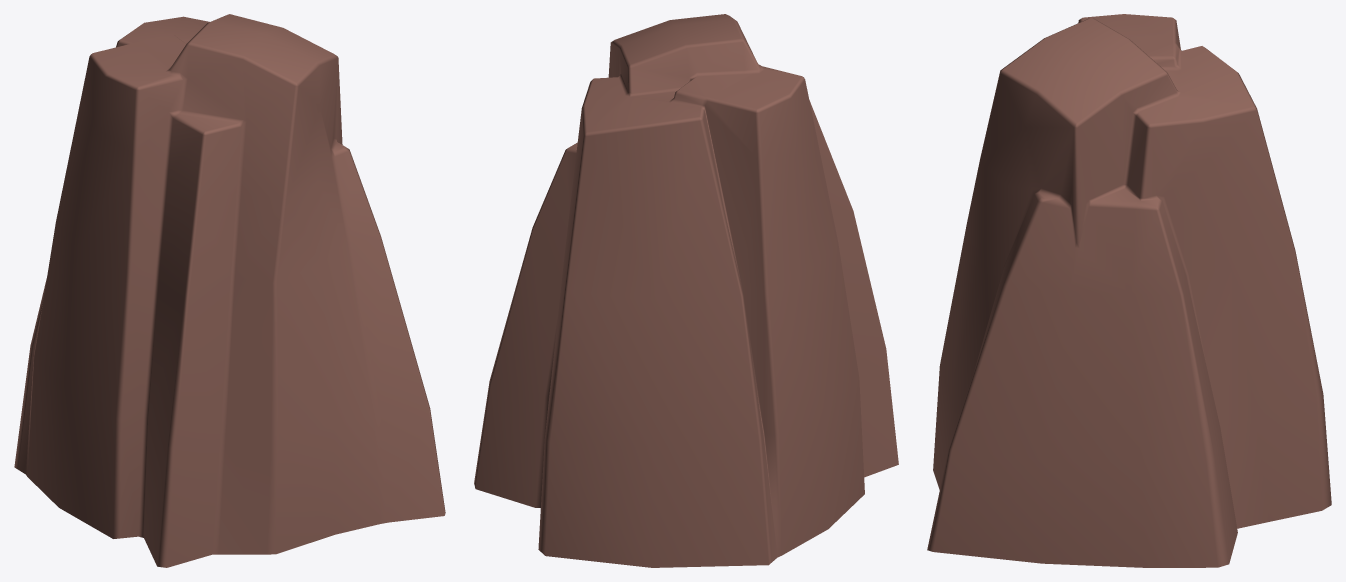
File: model_rock_02.fbx
3 renders of one model, left to right at view 1: azimuth 30°, elevation 25°; view 2: azimuth 150°, elevation 25°; view 3: azimuth 270°, elevation 25°, orthographic.
Visible parts, largest first — view 1: rock02_geo; view 2: rock02_geo; view 3: rock02_geo.
Boxes of the visible parts, box(x1,y1,x2,y2) form: rock02_geo: box(14, 14, 445, 567); rock02_geo: box(474, 14, 898, 567); rock02_geo: box(927, 14, 1331, 567).
Bounding box in the file's own units: 40.21 × 54.98 × 44.83.
